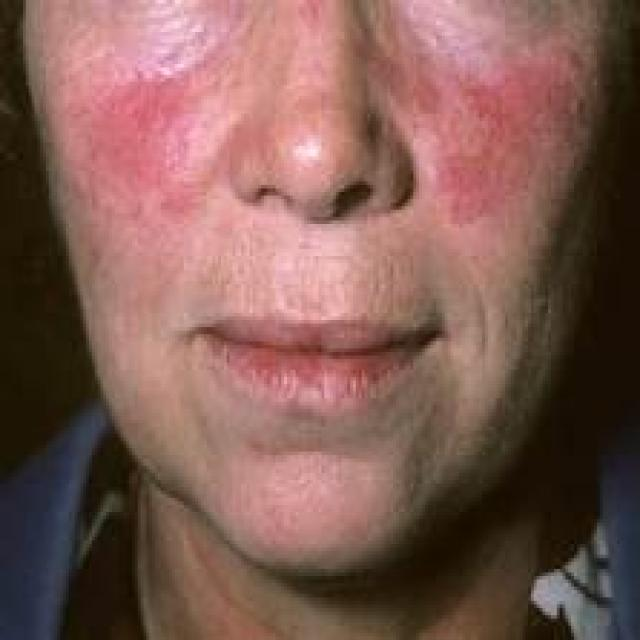Rosacea: (434, 52, 566, 226), (98, 64, 188, 195)
